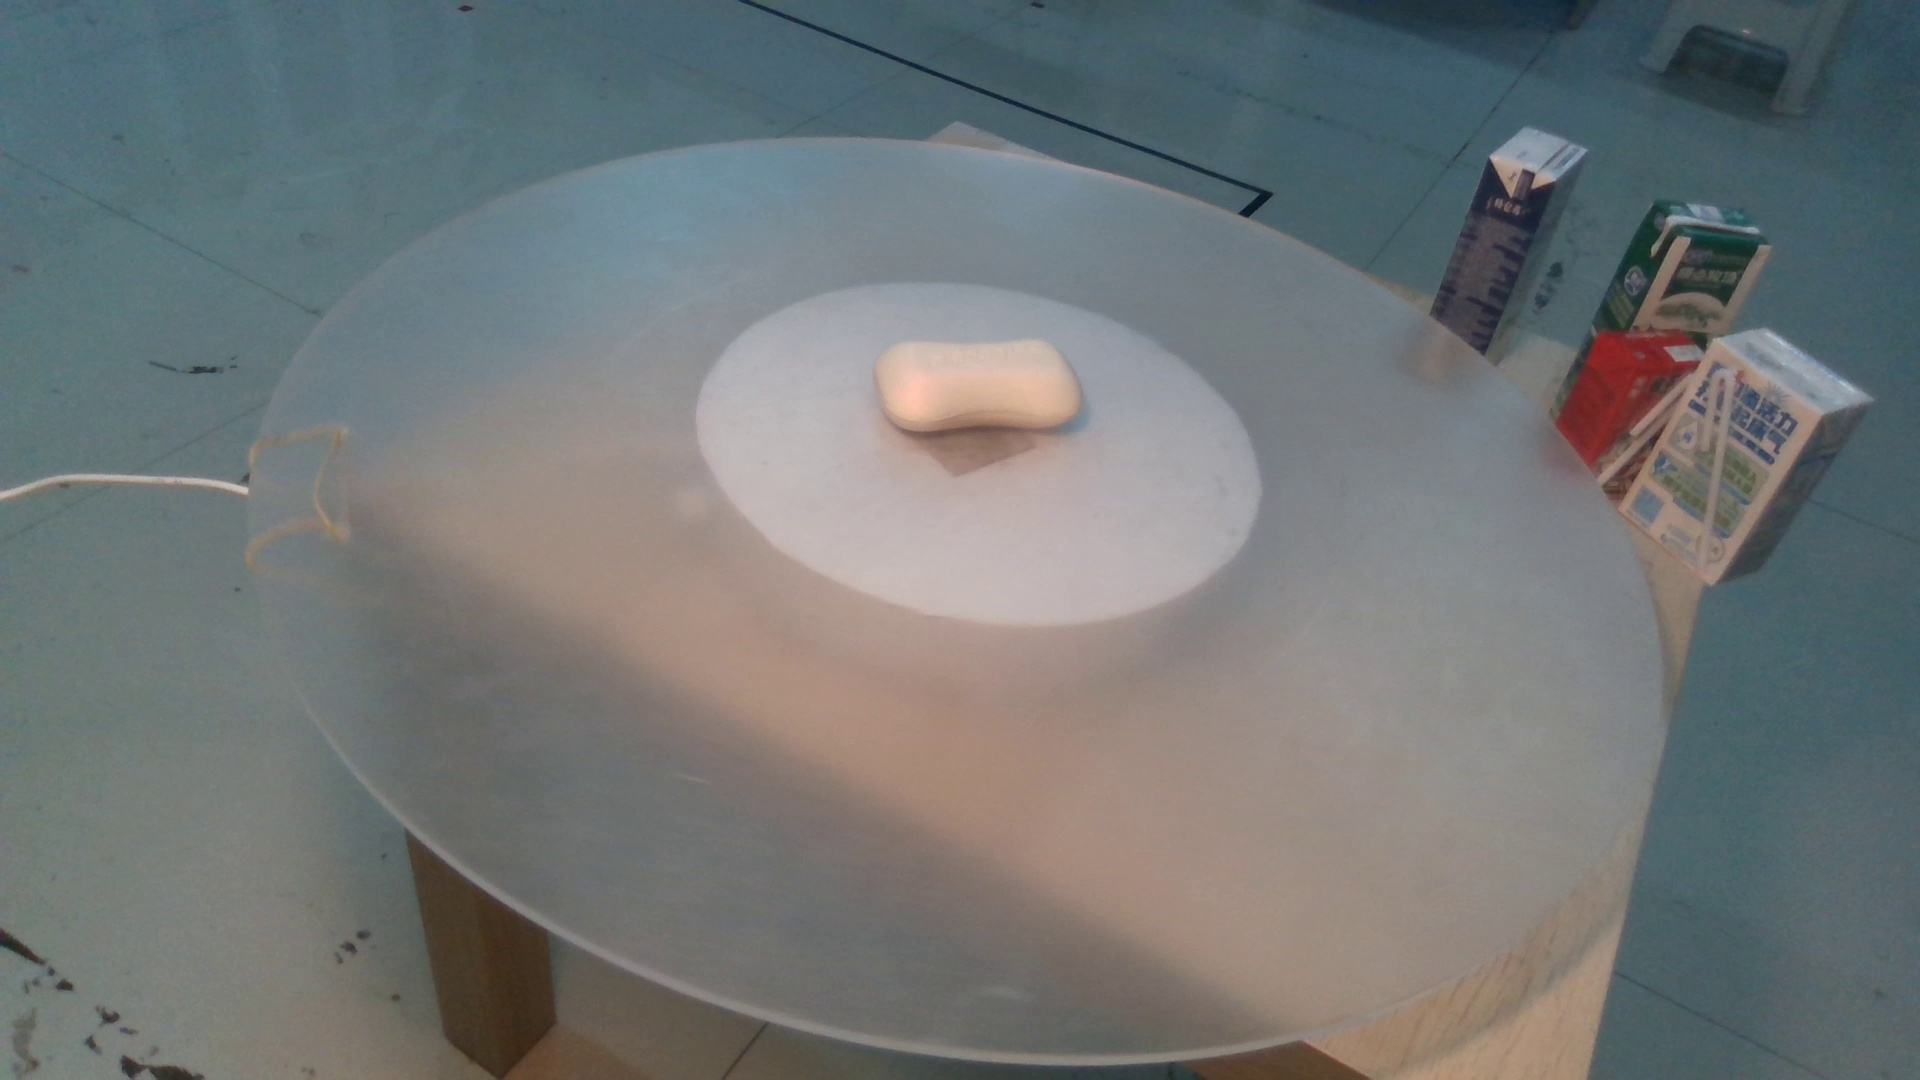CA003_1: (837, 318, 1096, 446)
